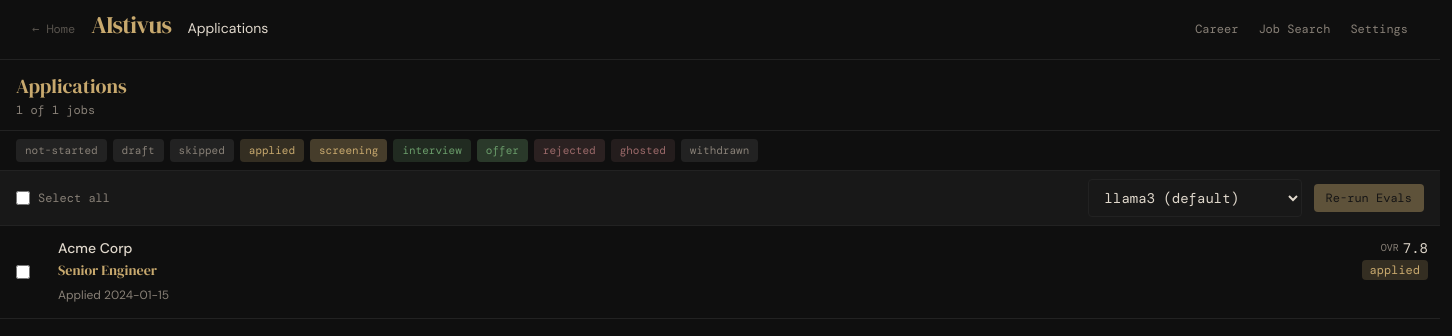
Applications page › checkbox selects the job and enables Re-run button
The image size is (1452, 336).
Expected: the text "Acme Corp" is shown, [58,238,132,256]
Expected: the button "Re-run Evals" is disabled, [1314,184,1424,212]
first checkbox is "select all", subsequent are row checkboxes
Step 1. Click the 2nd checkbox → (23, 272), box [16,264,30,278]
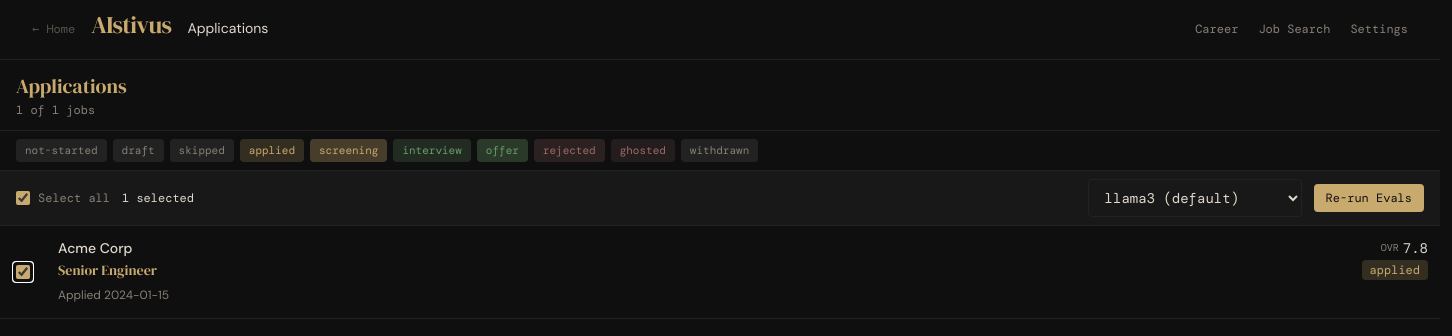
Expected: the button "Re-run Evals" is enabled, [1314,184,1424,212]
Expected: the text "1 selected" is shown, [122,190,194,206]
